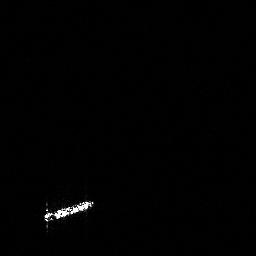ship: (45, 200, 95, 222)
